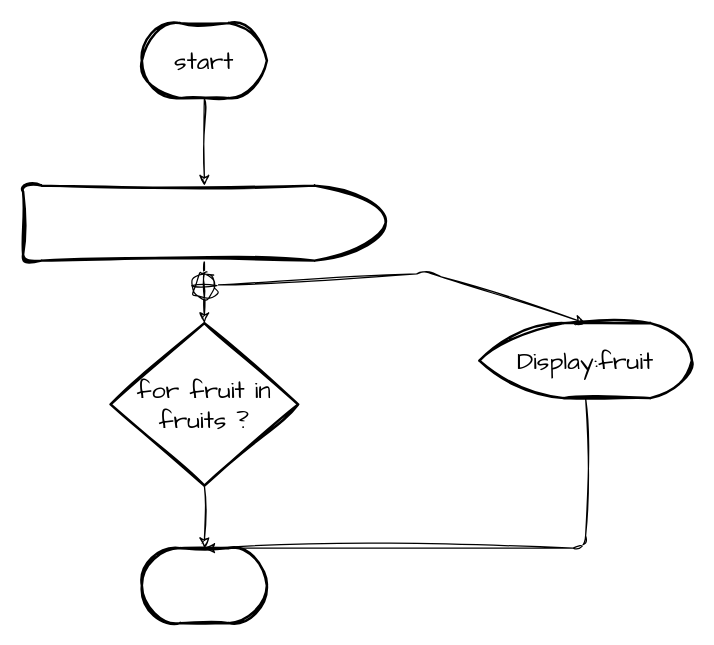
Some shapes in this 714 by 645 pixel diagram are drawn without their labels. Here are the shapes that lost their labels. From the top down, the centre of each, then its label:
point 203,222: furit = ["apple","banana","cherry"]
point 204,585: end
